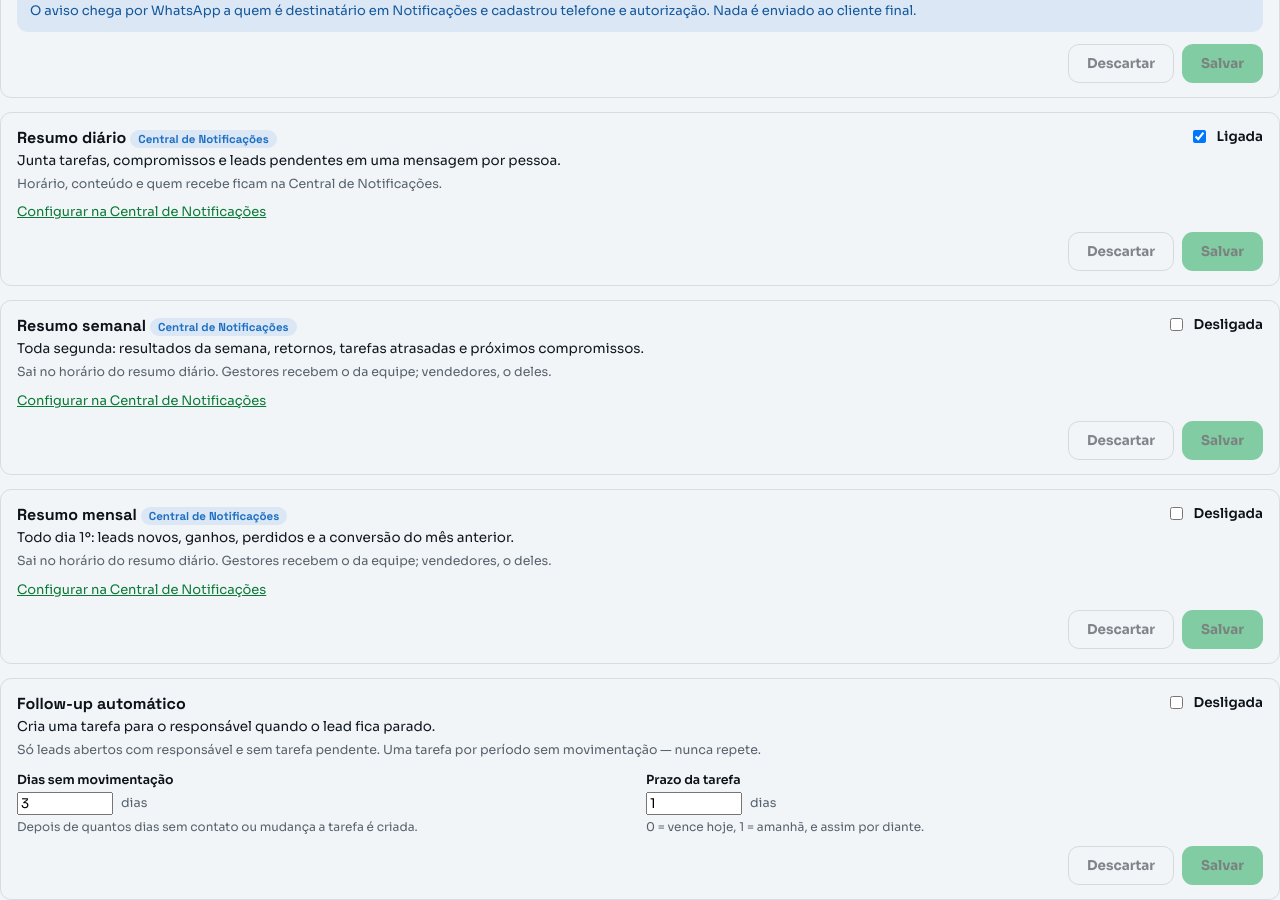
Scenario: AutomationsPage › não deixa salvar valor fora do limite e explica o intervalo
The width and height of the screenshot is (1280, 900).
(page scrolled)
Expected: the heading "Follow-up automático" is shown, [17,693,186,714]
Replace the text in the number field labelled "Dias sem movimentação" with "120" at (65, 803), box [17,792,113,814]
(page scrolled)
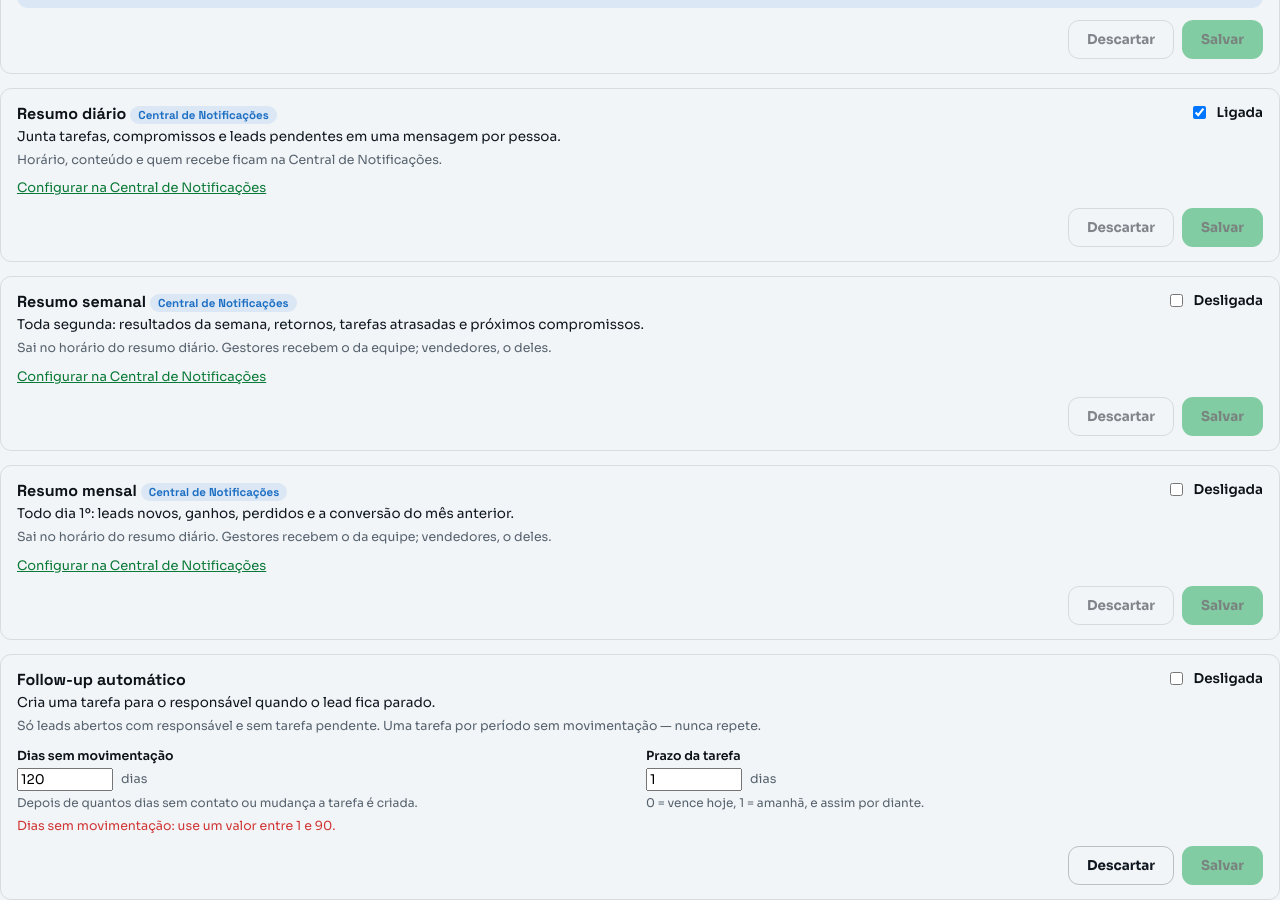
Expected: the 5th button "Salvar" is disabled, [1182,846,1263,884]
Expected: the message shows "entre 1 e 90", [17,818,336,834]
